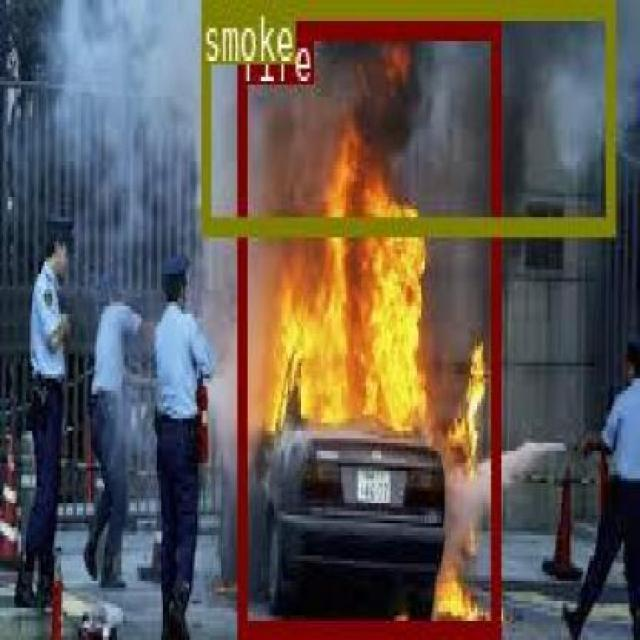CIV_Plane: (236, 17, 498, 634)
Fire: (236, 17, 498, 634)
Smoke: (199, 0, 612, 229)
